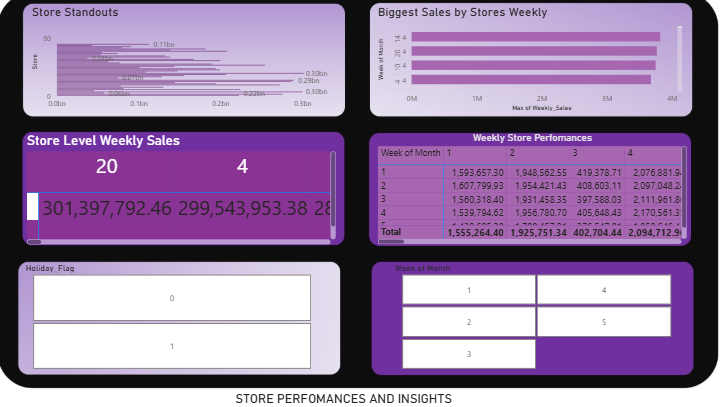

The dashboard page shown, as its layout file describes it:
{"tool":"powerbi","page":{"name":"Page 3","canvas":[1280,720],"ordinal":2},"visuals":[{"type":"shape","title":"STORE PERFOMANCES AND INSIGHTS","box":[65.1,689.6,1103.1,30.4],"z":0},{"type":"clusteredBarChart","title":"Store Standouts","fields":{"Category":["Walmart_cleaned.Store"],"Y":["Sum(Walmart_cleaned.Weekly_Sales)"]},"box":[82.4,36.1,524.8,185.1],"z":1000},{"type":"barChart","title":"Biggest Sales by Stores Weekly","fields":{"Category":["Walmart_cleaned.Store","Walmart_cleaned.Week of Month"],"Y":["Max(Walmart_cleaned.Weekly_Sales)"]},"box":[668,36.1,524.8,185.1],"z":2000},{"type":"pivotTable","title":"Store Level Weekly Sales","fields":{"Values":["Sum(Walmart_cleaned.Weekly_Sales)"],"Columns":["Walmart_cleaned.Store"]},"box":[73.7,251.6,533.5,193.7],"z":3000},{"type":"pivotTable","title":"Weekly Store Perfomances","fields":{"Rows":["Walmart_cleaned.Week of Month"],"Values":["Avg(Walmart_cleaned.Weekly_Sales)"],"Columns":["Walmart_cleaned.Store"]},"box":[668.8,250.6,533.3,194.7],"z":3001},{"type":"slicer","fields":{"Values":["Walmart_cleaned.Week of Month"]},"box":[689.1,467.3,504.6,191.3],"z":3002},{"type":"slicer","fields":{"Values":["Walmart_cleaned.Holiday_Flag"]},"box":[64.3,467.3,519.8,191.3],"z":3003}]}

Visuals, with their boxes in screenshot pixels (x1, y1, x2, y2), scaled from the page's 1280x720 canvas onto the 727x407 screenshot:
"STORE PERFOMANCES AND INSIGHTS" shape: (37, 390, 664, 406)
"Store Standouts" clusteredBarChart: (47, 20, 345, 125)
"Biggest Sales by Stores Weekly" barChart: (379, 20, 677, 125)
"Store Level Weekly Sales" pivotTable: (42, 142, 345, 252)
"Weekly Store Perfomances" pivotTable: (380, 142, 683, 252)
slicer - Walmart_cleaned.Week of Month: (391, 264, 678, 372)
slicer - Walmart_cleaned.Holiday_Flag: (37, 264, 332, 372)
